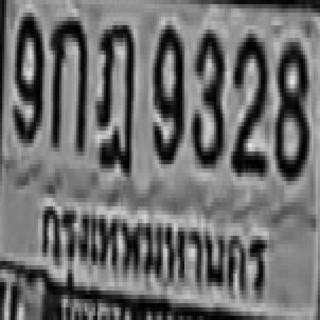A01: (49, 13, 85, 147)
A14: (95, 21, 134, 168)
N02: (230, 29, 266, 173)
N03: (191, 25, 222, 164)
N08: (273, 38, 307, 177)
N09: (150, 21, 182, 160), (11, 8, 42, 139)
P04: (37, 192, 269, 302)
